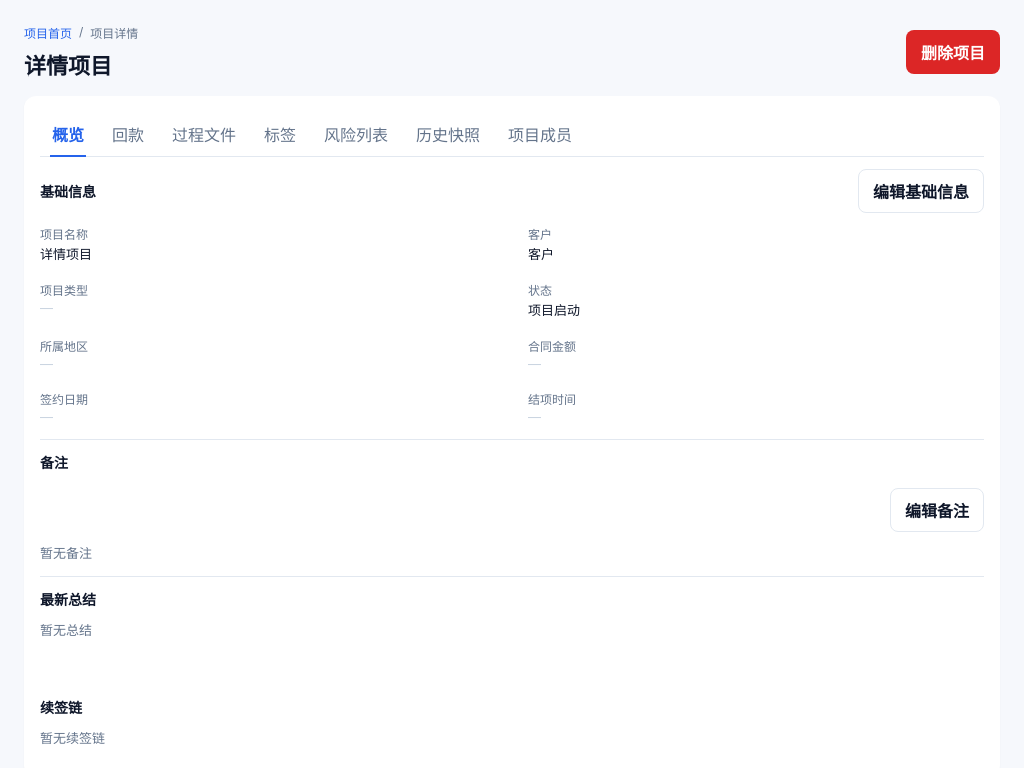
Test: 页面 › ProjectDetail 仅管理员可见项目成员区块
Step 1. Click the tab "项目成员" → x=540, y=134, box [496, 112, 584, 156]
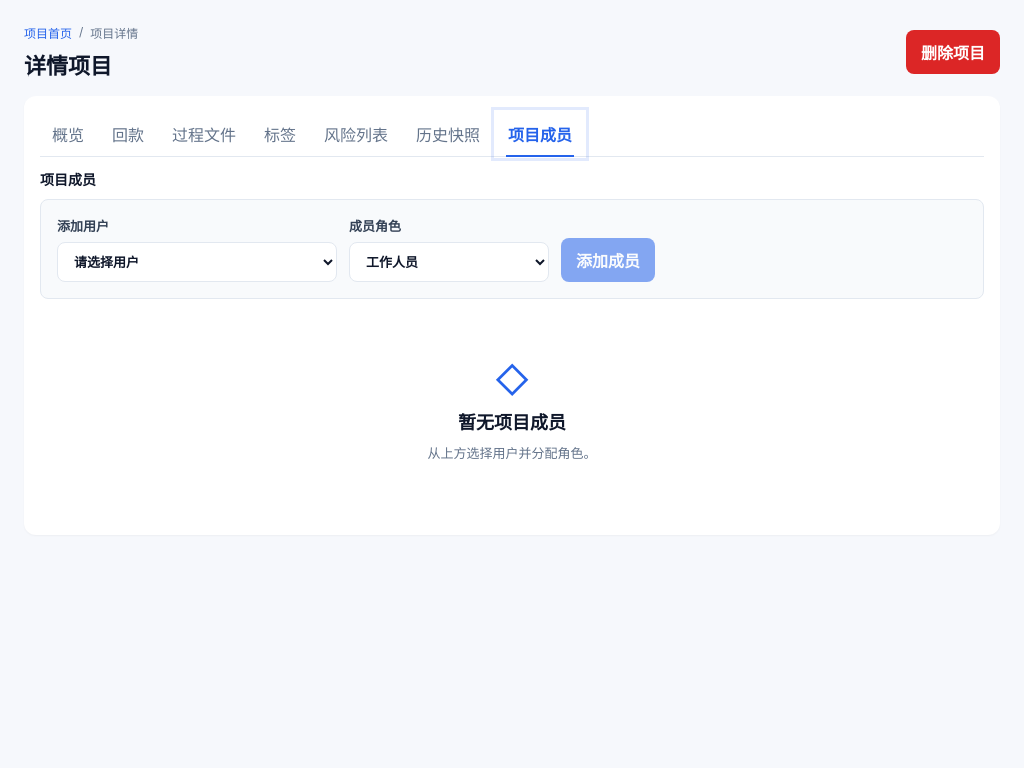
Expected: the text "暂无项目成员" is shown, [458, 408, 566, 434]
